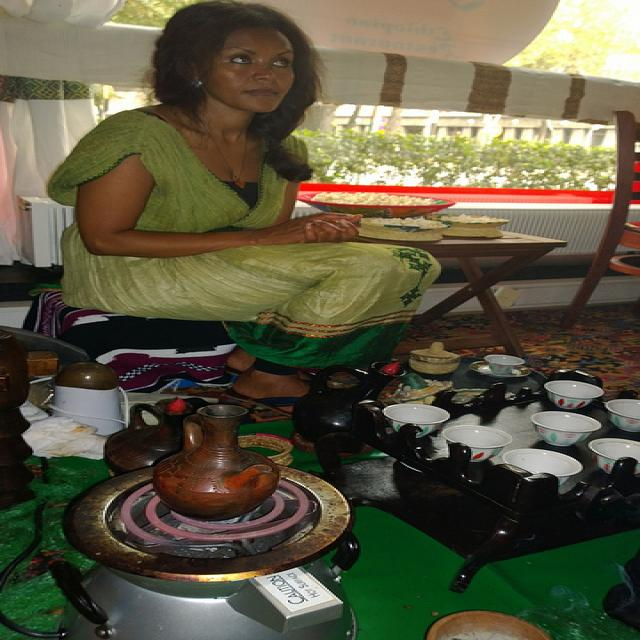chair: (23, 290, 239, 394), (563, 109, 640, 322)
dining table: (354, 229, 570, 361)
